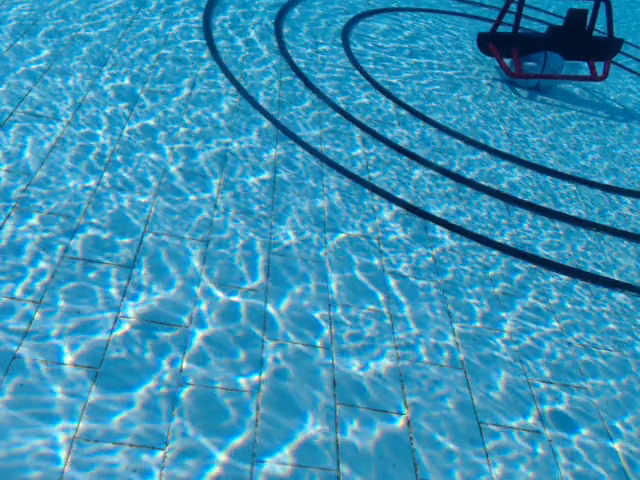submarine: (476, 1, 625, 82)
